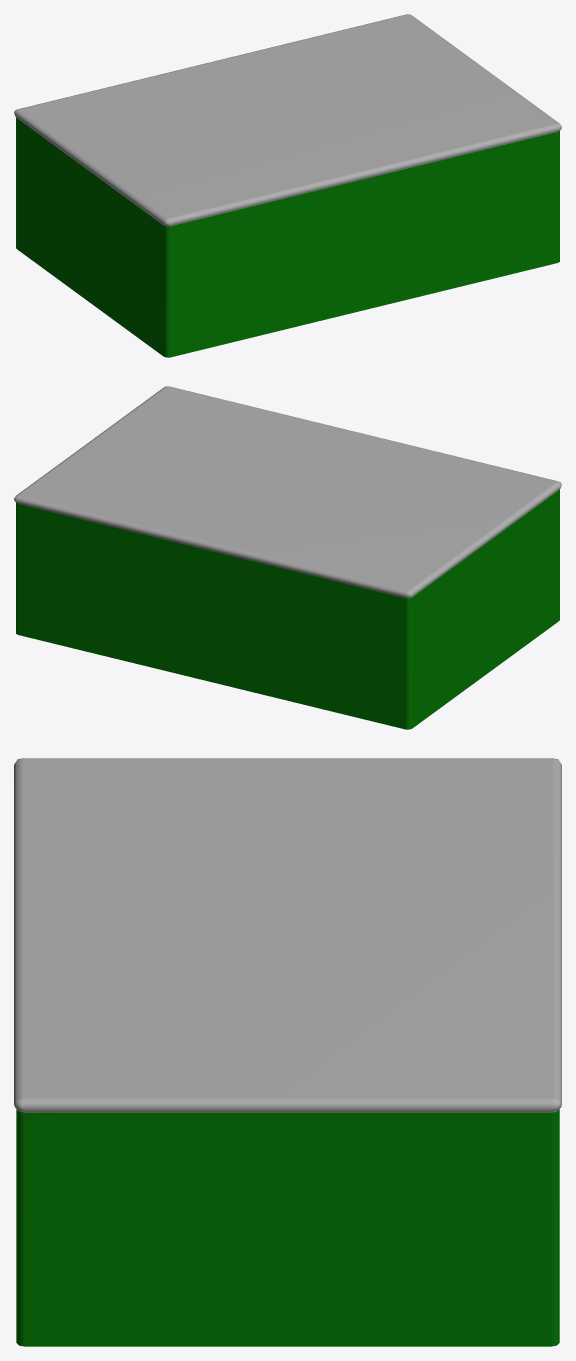
The model's file is Terreno_Grande.fbx.
The picture shows the model from 3 angles, top to bottom: view 1: azimuth 30°, elevation 25°; view 2: azimuth 150°, elevation 25°; view 3: azimuth 270°, elevation 25°; orthographic projection. The views are drawn at different scales.
Parts seen in each view (by area): view 1: Terreno_Grande; view 2: Terreno_Grande; view 3: Terreno_Grande.
Part boxes in pixels (x1=…): Terreno_Grande: x1=14, y1=14, x2=561, y2=357; Terreno_Grande: x1=14, y1=386, x2=561, y2=729; Terreno_Grande: x1=14, y1=758, x2=561, y2=1346.
Size of the model in its own units: 603 by 200 by 403.
